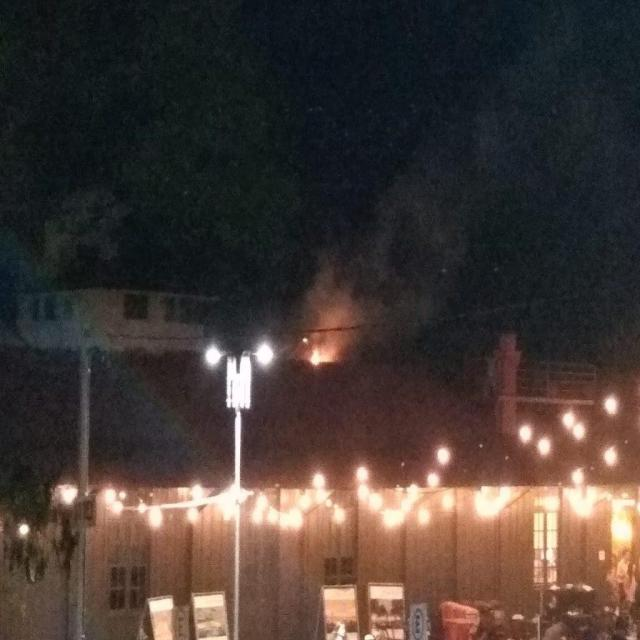Fire: (305, 348, 323, 367)
